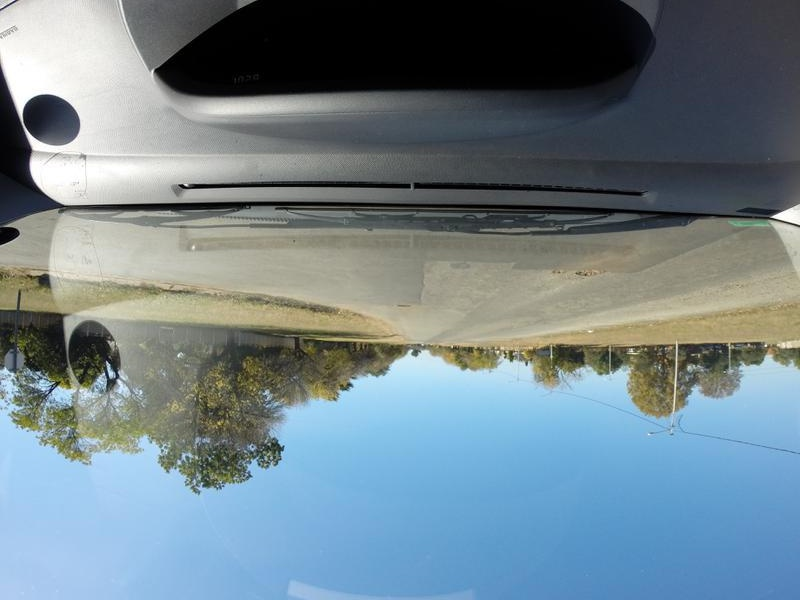pothole: (579, 264, 607, 281), (545, 262, 572, 278)
